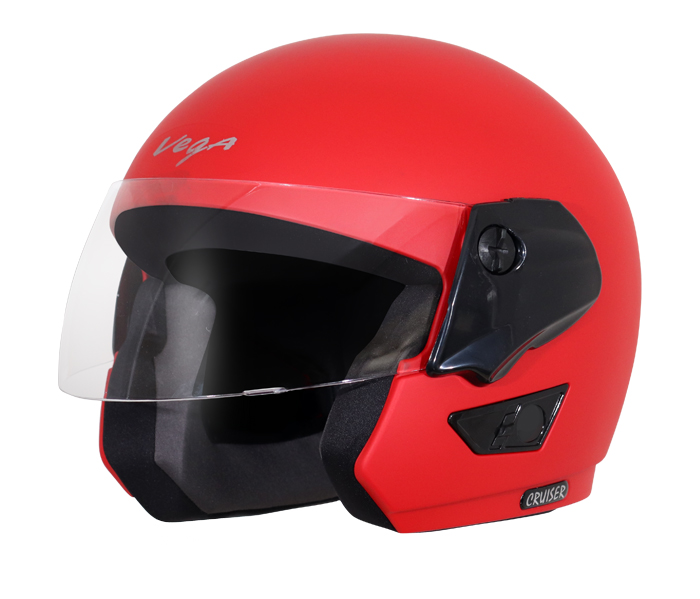helmet: (56, 37, 632, 512)
